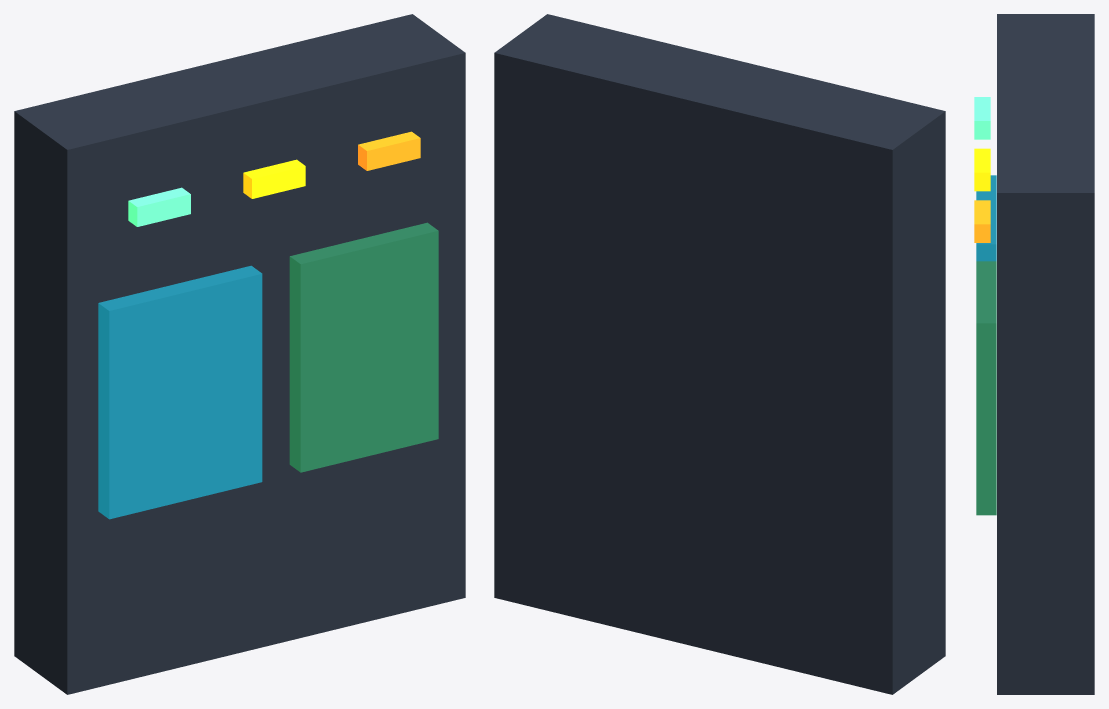
Rendered from access_control_panel.glb.
The picture shows the model from 3 angles, left to right: view 1: azimuth 30°, elevation 25°; view 2: azimuth 150°, elevation 25°; view 3: azimuth 270°, elevation 25°; orthographic projection. The views are drawn at different scales.
Parts seen in each view (by area): view 1: access_control_panel_body, access_control_panel_reader, access_control_panel_biometric, access_control_panel_status_-0.15, access_control_panel, access_control_panel_status_0.15; view 2: access_control_panel_body; view 3: access_control_panel_body, access_control_panel_biometric, access_control_panel_reader, access_control_panel, access_control_panel_status_-0.15, access_control_panel_status_0.15.
Boxes of the visible parts, bbox=[...] form: access_control_panel_body: bbox=[14, 14, 465, 694]; access_control_panel_reader: bbox=[98, 265, 262, 519]; access_control_panel_biometric: bbox=[289, 222, 438, 472]; access_control_panel_status_-0.15: bbox=[128, 187, 190, 226]; access_control_panel: bbox=[243, 159, 305, 198]; access_control_panel_status_0.15: bbox=[358, 131, 420, 170]; access_control_panel_body: bbox=[494, 14, 945, 694]; access_control_panel_body: bbox=[997, 14, 1094, 694]; access_control_panel_biometric: bbox=[976, 261, 996, 515]; access_control_panel_reader: bbox=[976, 175, 996, 261]; access_control_panel: bbox=[974, 148, 990, 191]; access_control_panel_status_-0.15: bbox=[974, 97, 990, 139]; access_control_panel_status_0.15: bbox=[974, 200, 990, 242].
Size of the model in its own units: 0.52 by 0.68 by 0.148.
